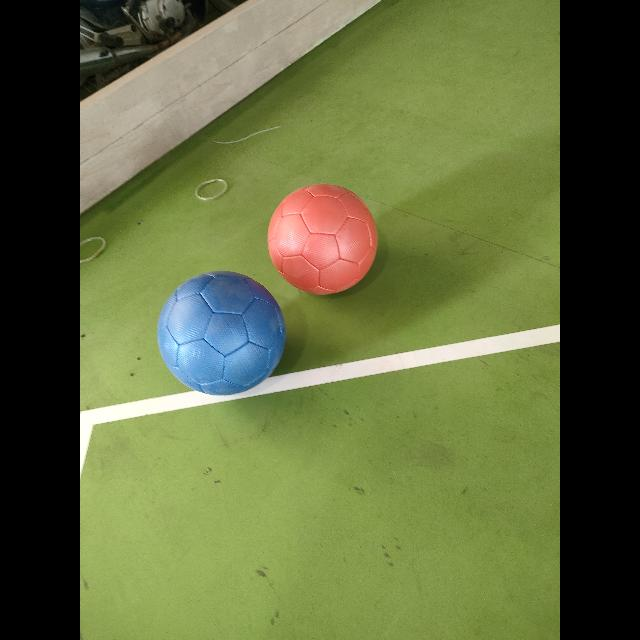B: (158, 272, 286, 394)
R: (268, 184, 377, 294)
